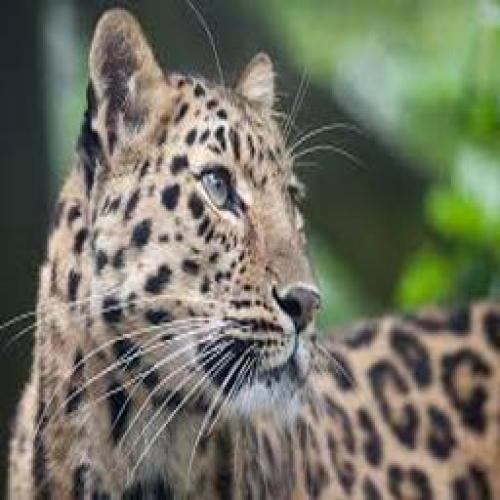amur_leopard-endangered: (8, 13, 483, 488)
